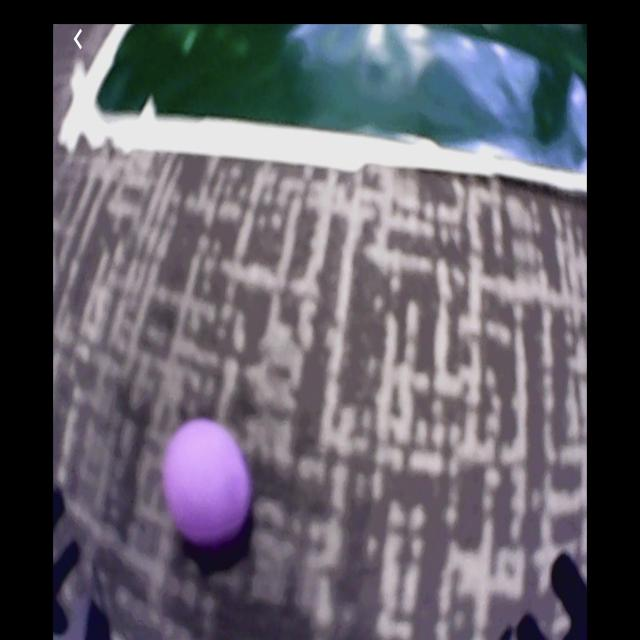ball: (167, 420, 251, 545)
